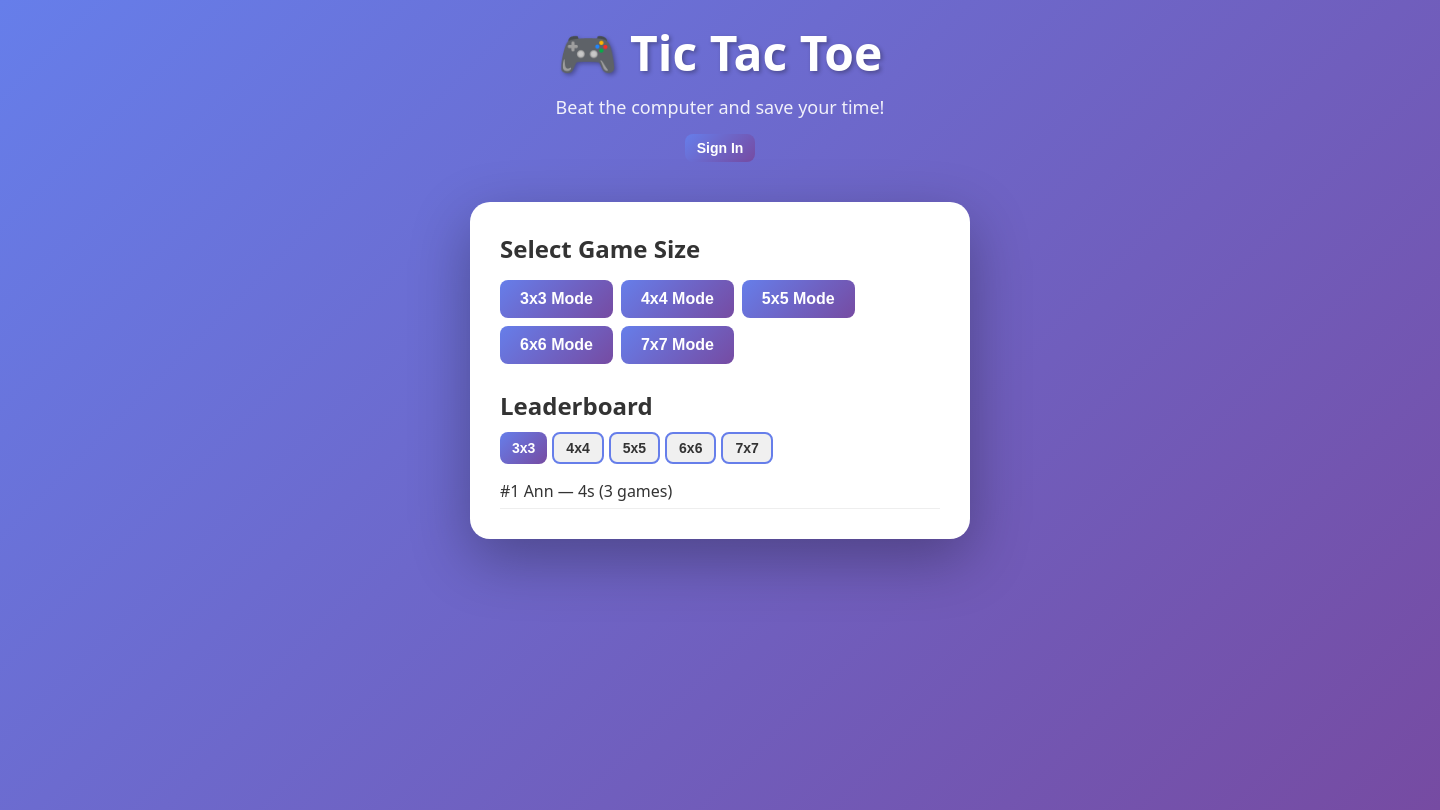
Test: App: home and leaderboard (stubbed network) › fetches and shows another board's scores when its tab is clicked
This screenshot has width=1440, height=810.
Click the button "5x5". click: (634, 448)
box: [609,432,660,464]
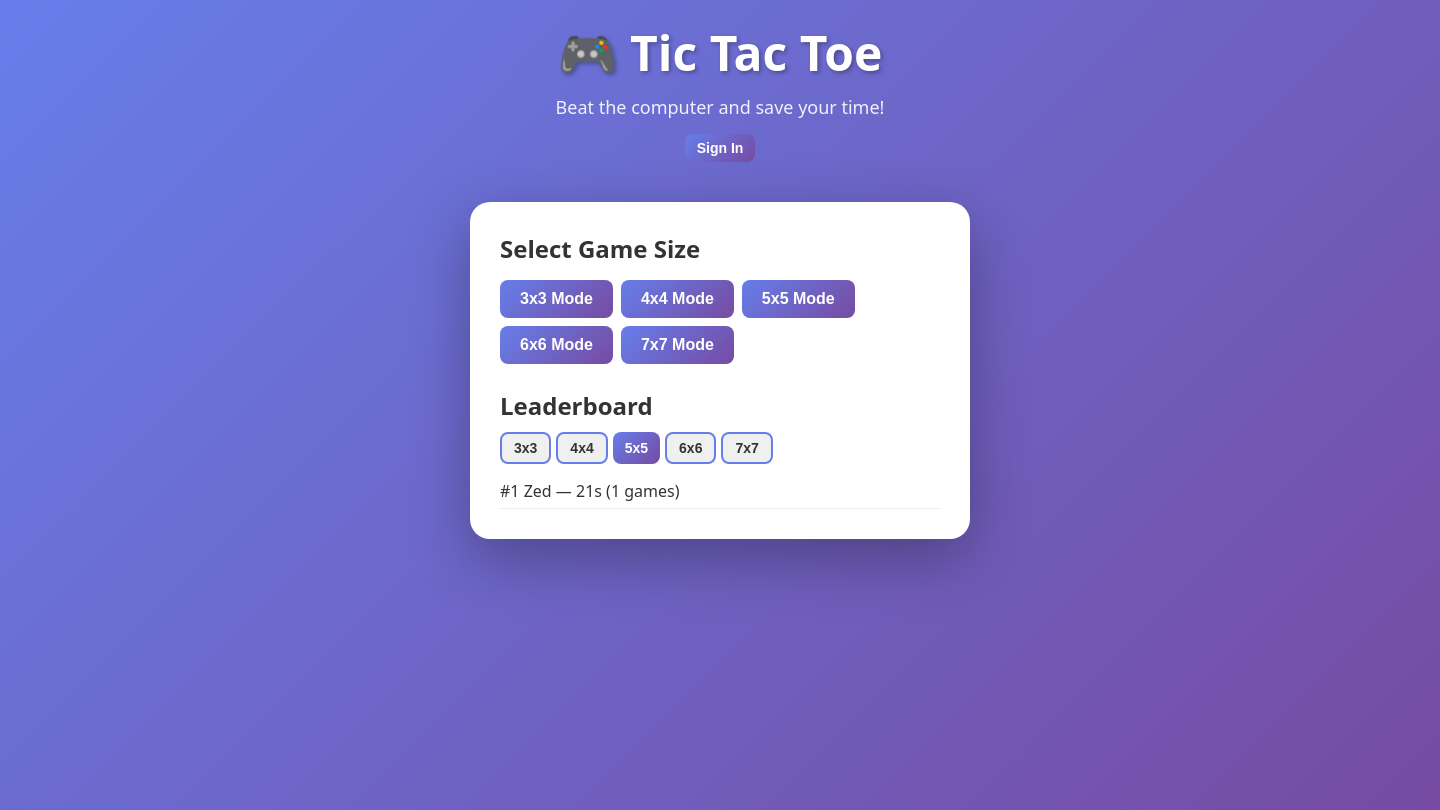
Now the list item "#1 Zed — 21s (1 games)" is shown, box [500,474,940,509]
Now the list item "Ann" is gone
